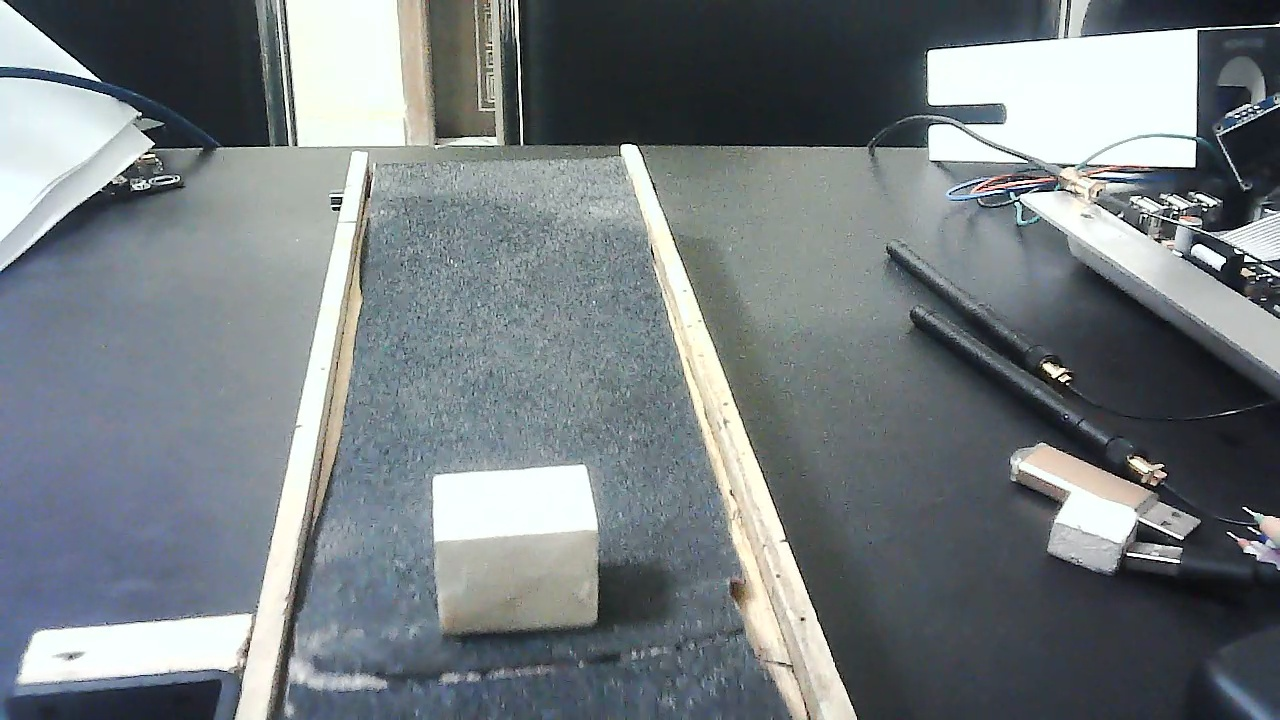Medium: (431, 465, 600, 634)
